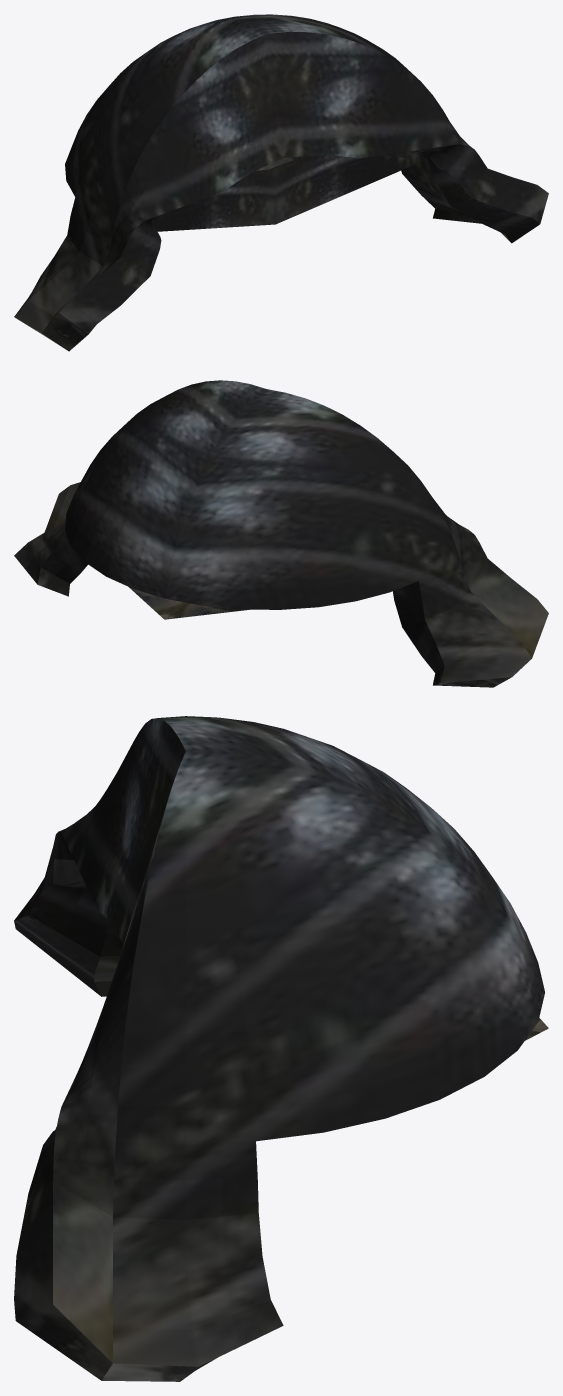
Rendered from isopod_body.dae.
3 views of the same model, one above another, from view 1: azimuth 30°, elevation 25°; view 2: azimuth 150°, elevation 25°; view 3: azimuth 270°, elevation 25° (orthographic). The views are drawn at different scales.
Parts seen in each view (by area): view 1: mid2.001, leg_base; view 2: mid2.001, leg_base; view 3: mid2.001.
Boxes of the visible parts, left/top/right/bottom form: mid2.001: left=14, top=14, right=548, bottom=351; leg_base: left=152, top=151, right=420, bottom=231; mid2.001: left=14, top=380, right=548, bottom=687; leg_base: left=129, top=587, right=249, bottom=619; mid2.001: left=14, top=716, right=544, bottom=1381.
Bounding box in the file's own units: 13.62 × 7.13 × 6.43.
2 materials, 2 textured.
